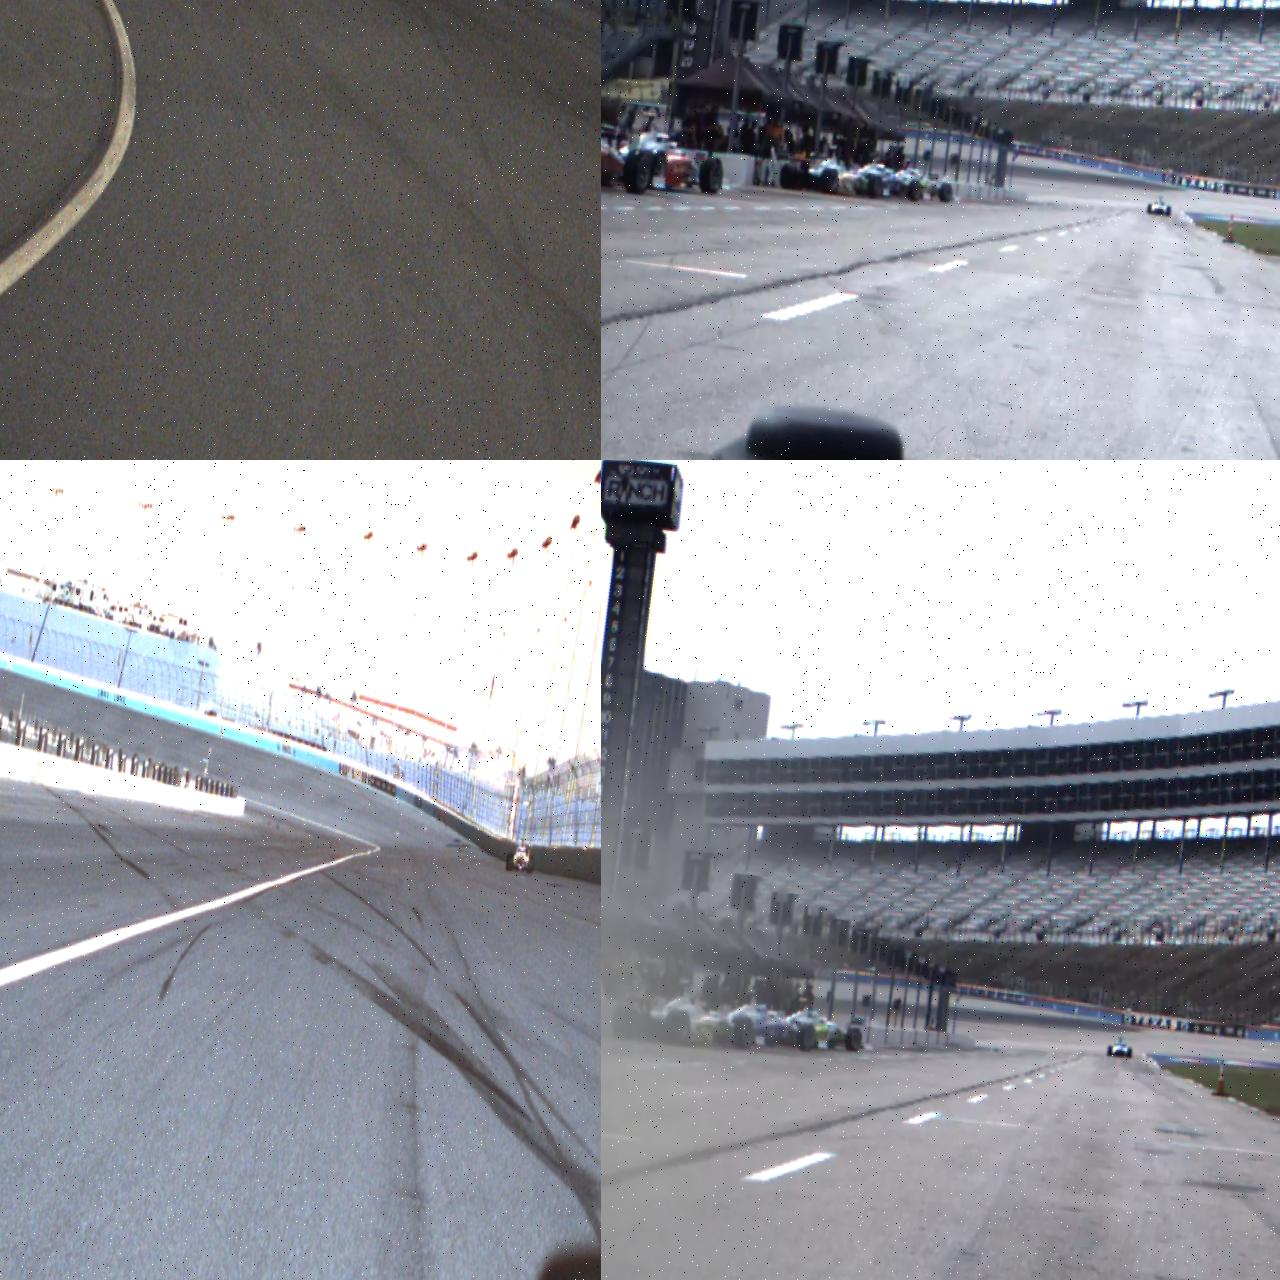AV: (611, 971, 772, 1057), (778, 137, 888, 203), (505, 837, 537, 874), (1146, 195, 1173, 218), (1108, 1035, 1135, 1058)
Wheel: (622, 147, 656, 196), (662, 1009, 693, 1047), (697, 157, 726, 196), (611, 1006, 638, 1041), (733, 1015, 756, 1049), (796, 1022, 818, 1053), (818, 168, 839, 196), (778, 162, 797, 191), (844, 1027, 863, 1053), (866, 173, 884, 200), (907, 179, 922, 203), (938, 182, 954, 203), (505, 853, 515, 871), (526, 855, 535, 874), (1166, 206, 1172, 217), (1108, 1046, 1114, 1056), (1146, 204, 1151, 215), (1128, 1047, 1132, 1057)
